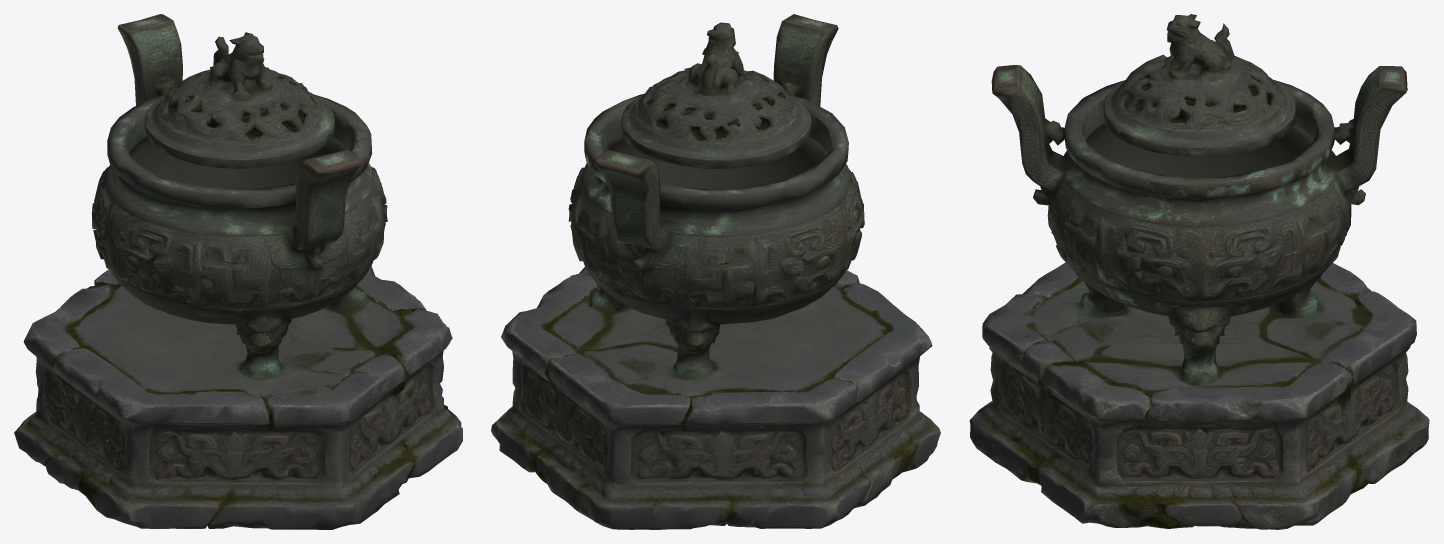
3 views of the same model, side by side, from view 1: azimuth 30°, elevation 25°; view 2: azimuth 150°, elevation 25°; view 3: azimuth 270°, elevation 25° (orthographic). The views are drawn at different scales.
Visible parts, largest first — view 1: tripo_node_dc07f429-b688-48e1-a0de-b5ace21f7745; view 2: tripo_node_dc07f429-b688-48e1-a0de-b5ace21f7745; view 3: tripo_node_dc07f429-b688-48e1-a0de-b5ace21f7745.
Boxes of the visible parts, box(x1,y1,x2,y2) form: tripo_node_dc07f429-b688-48e1-a0de-b5ace21f7745: box(14, 14, 462, 529); tripo_node_dc07f429-b688-48e1-a0de-b5ace21f7745: box(491, 14, 940, 529); tripo_node_dc07f429-b688-48e1-a0de-b5ace21f7745: box(969, 14, 1429, 529).
Bounding box in the file's own units: 0.874 × 1 × 0.9687.
1 material, 1 textured.
